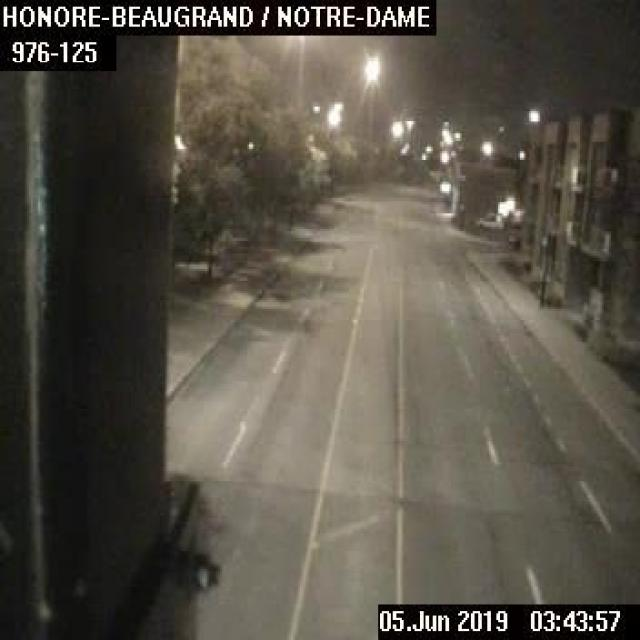vehicle: (476, 210, 501, 228)
